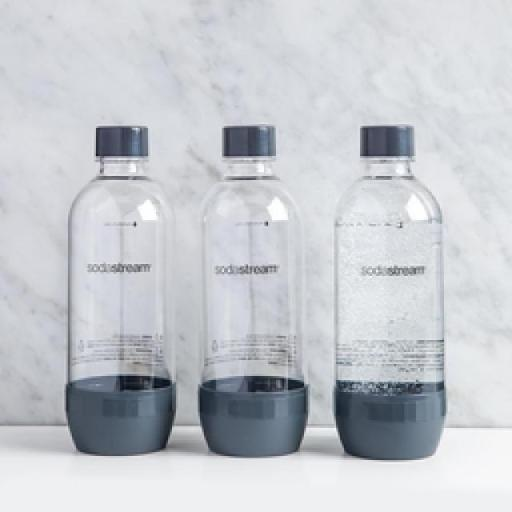plastic: (332, 122, 446, 458), (196, 122, 308, 456), (64, 124, 176, 454)
